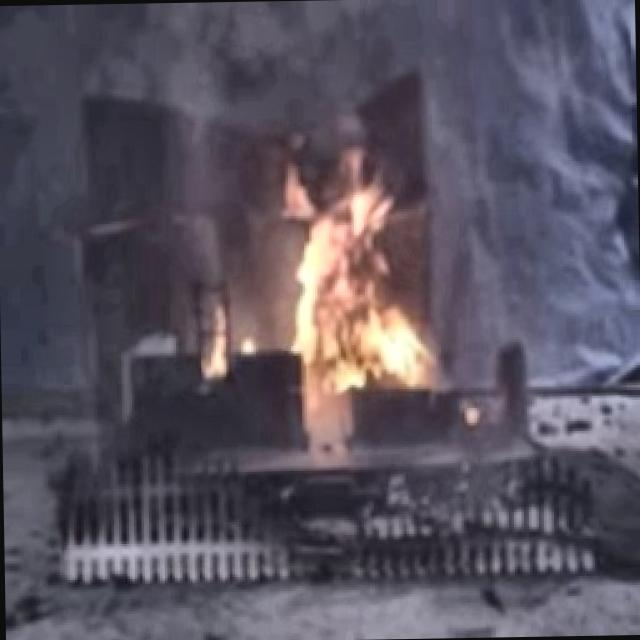fire: (264, 149, 427, 412)
